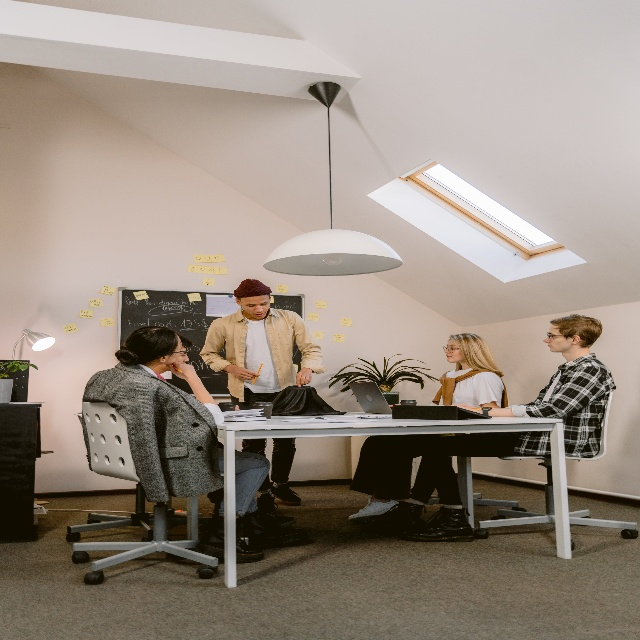Gafas: (545, 331, 571, 339), (173, 343, 188, 354), (443, 345, 460, 354)
Sin_guantes: (166, 360, 195, 380), (234, 365, 261, 381), (295, 368, 312, 388)
